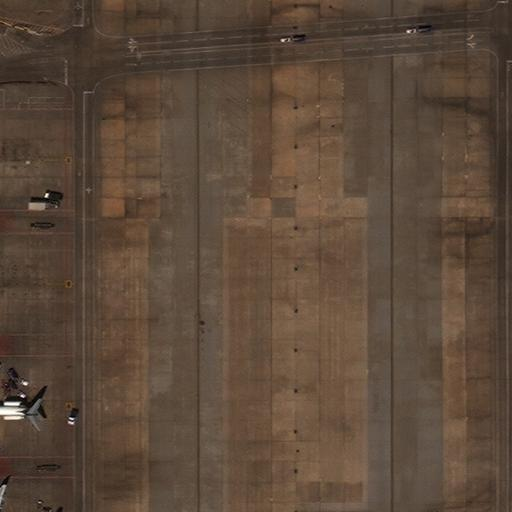Medium Civil Transport: (0, 368, 40, 450)
